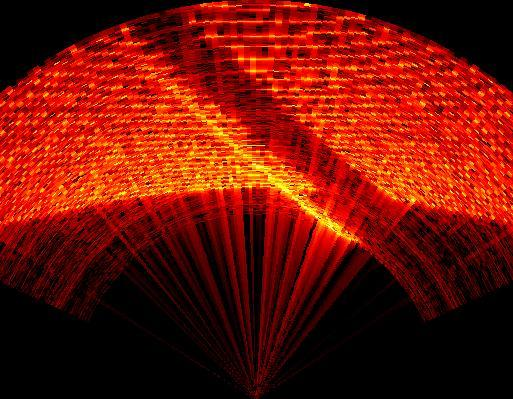pipe: (115, 12, 420, 252)
